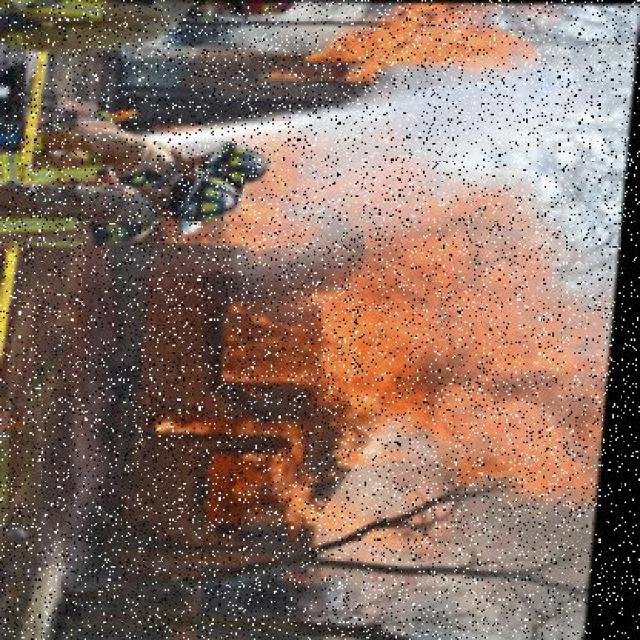fire: (250, 152, 629, 506)
